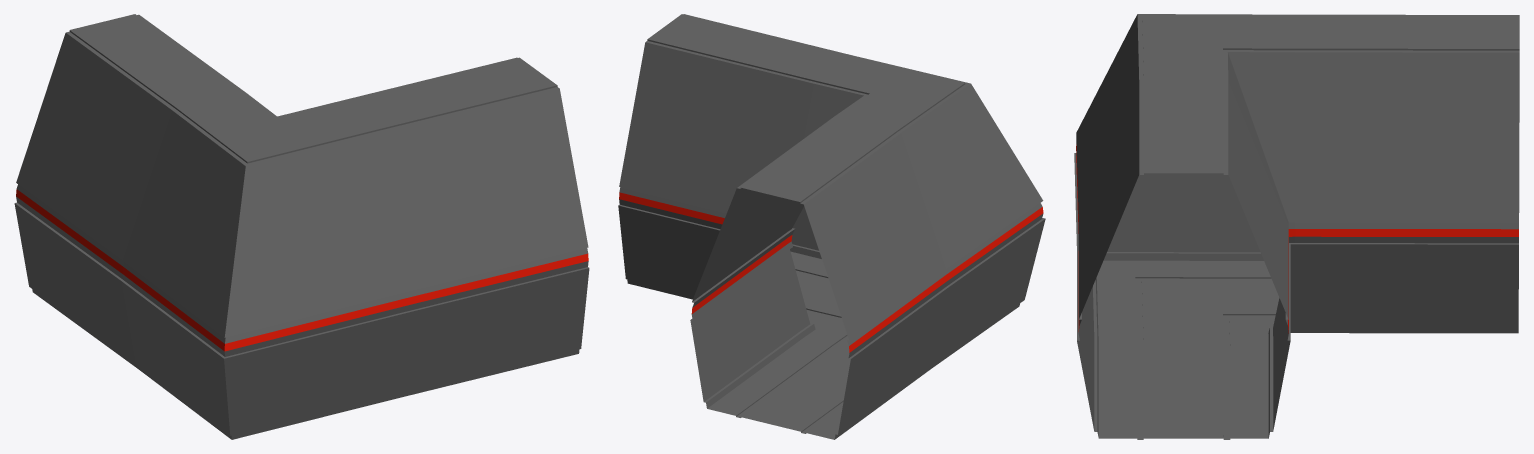
Rendered from HallCorner.fbx.
The picture shows the model from 3 angles, left to right: view 1: azimuth 30°, elevation 25°; view 2: azimuth 150°, elevation 25°; view 3: azimuth 270°, elevation 25°; orthographic projection. The views are drawn at different scales.
Visible parts, largest first — view 1: HallCorner; view 2: HallCorner; view 3: HallCorner.
Part boxes in pixels (x1,y1,x2,y2): HallCorner: [14, 14, 589, 439]; HallCorner: [618, 14, 1045, 439]; HallCorner: [1074, 14, 1519, 439].
Bounding box in the file's own units: 398 × 264 × 399.
